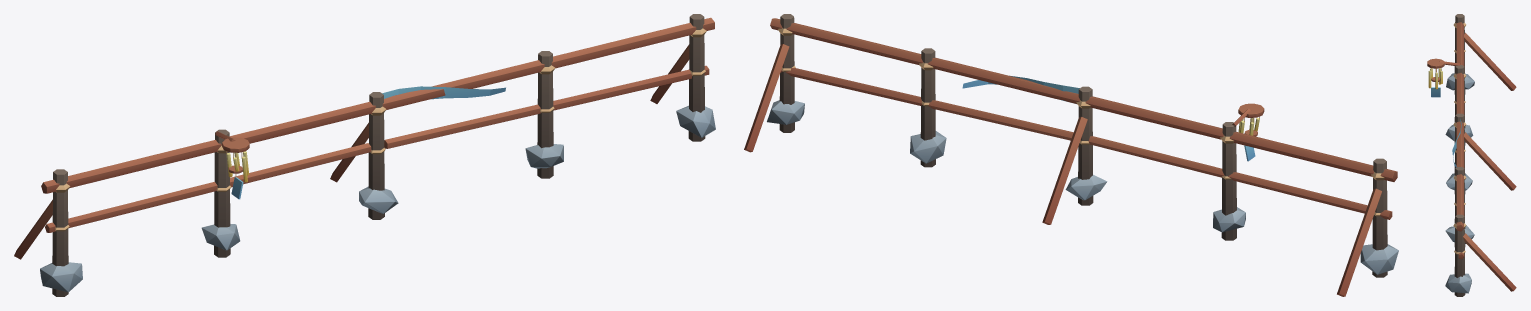
File: cliff_edge_rail.glb
The picture shows the model from 3 angles, left to right: view 1: azimuth 30°, elevation 25°; view 2: azimuth 150°, elevation 25°; view 3: azimuth 270°, elevation 25°; orthographic projection. The views are drawn at different scales.
Visible parts, largest first — view 1: cliff_edge_rail; view 2: cliff_edge_rail; view 3: cliff_edge_rail.
Part boxes in pixels (x1,y1,x2,y2): cliff_edge_rail: [14, 14, 715, 296]; cliff_edge_rail: [744, 14, 1398, 296]; cliff_edge_rail: [1427, 14, 1516, 296].
Size of the model in its own units: 8.3 by 1.53 by 1.49.
1 material, 1 textured.
